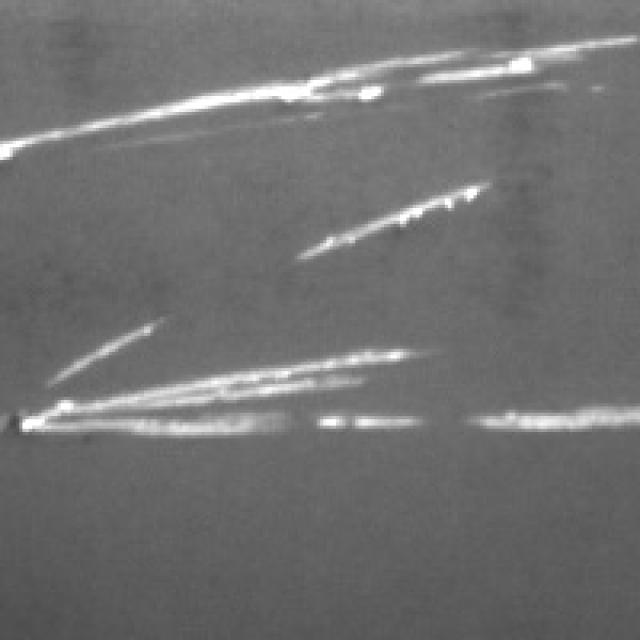scratches: (6, 28, 640, 154), (12, 310, 442, 432), (298, 172, 499, 266), (454, 384, 640, 438)
